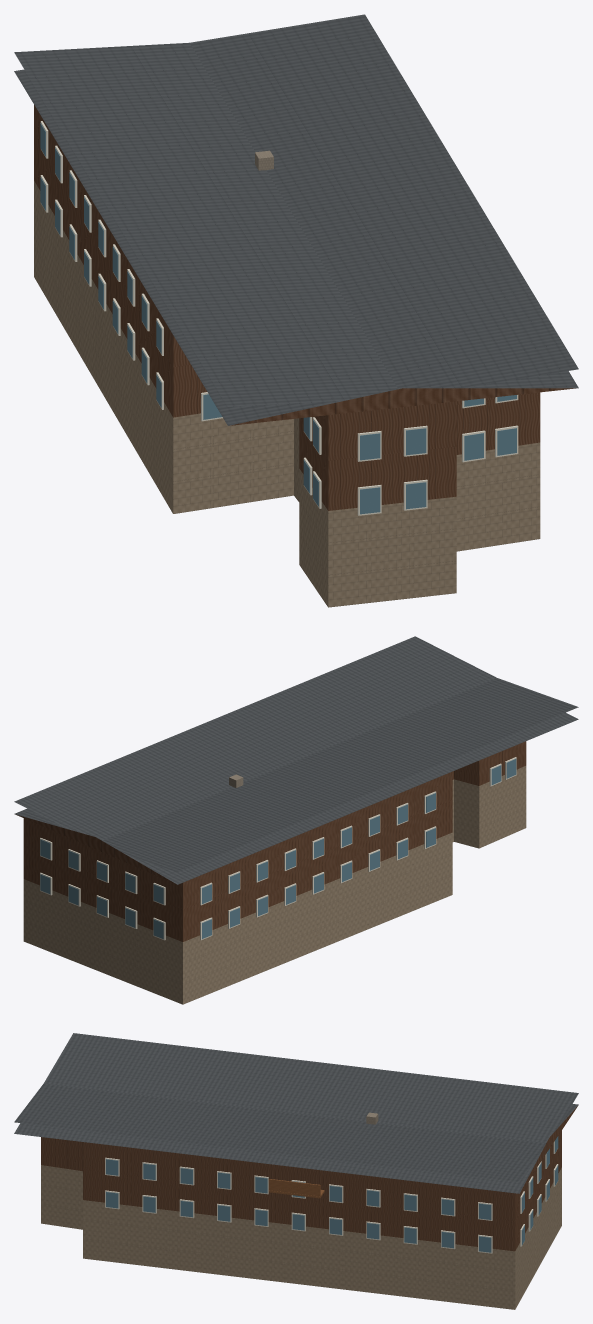
Rendered from core_0030.gltf.
The picture shows the model from 3 angles, top to bottom: view 1: azimuth 30°, elevation 25°; view 2: azimuth 150°, elevation 25°; view 3: azimuth 270°, elevation 25°; orthographic projection. The views are drawn at different scales.
Parts seen in each view (by area): view 1: core_0030; view 2: core_0030; view 3: core_0030.
Part boxes in pixels (bbox=[...]): core_0030: bbox=[14, 14, 578, 607]; core_0030: bbox=[14, 636, 578, 1004]; core_0030: bbox=[14, 1033, 578, 1309].
Size of the model in its own units: 27.92 by 11.55 by 44.62.
Materials: 7 (7 with a texture image).
